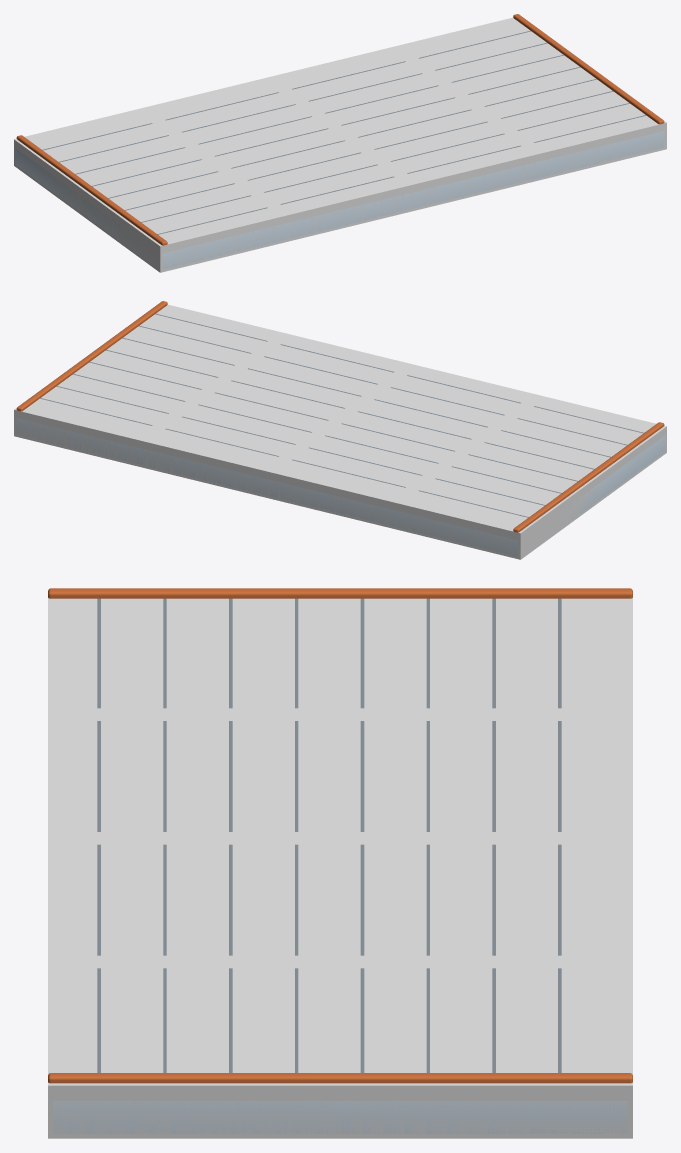
Rendered from m3_catwalk.glb.
3 renders of one model, top to bottom at view 1: azimuth 30°, elevation 25°; view 2: azimuth 150°, elevation 25°; view 3: azimuth 270°, elevation 25°, orthographic. The views are drawn at different scales.
Parts seen in each view (by area): view 1: COL_m3_catwalk, m3_catwalk_ir_blue, m3_catwalk_ir_steel, m3_catwalk_ir_orange; view 2: COL_m3_catwalk, m3_catwalk_ir_blue, m3_catwalk_ir_steel, m3_catwalk_ir_orange; view 3: COL_m3_catwalk, m3_catwalk_ir_blue, m3_catwalk_ir_steel, m3_catwalk_ir_orange.
Boxes of the visible parts, x1=… form: COL_m3_catwalk: x1=14, y1=17, x2=666, y2=272; m3_catwalk_ir_blue: x1=15, y1=131, x2=664, y2=269; m3_catwalk_ir_steel: x1=42, y1=30, x2=646, y2=234; m3_catwalk_ir_orange: x1=16, y1=14, x2=664, y2=245; COL_m3_catwalk: x1=14, y1=304, x2=666, y2=559; m3_catwalk_ir_blue: x1=16, y1=418, x2=665, y2=556; m3_catwalk_ir_steel: x1=40, y1=313, x2=643, y2=517; m3_catwalk_ir_orange: x1=16, y1=301, x2=664, y2=532; COL_m3_catwalk: x1=48, y1=598, x2=632, y2=1138; m3_catwalk_ir_blue: x1=53, y1=1101, x2=627, y2=1133; m3_catwalk_ir_steel: x1=97, y1=598, x2=561, y2=1072; m3_catwalk_ir_orange: x1=48, y1=588, x2=632, y2=1083.
Size of the model in its own units: 8 by 0.4451 by 4.
